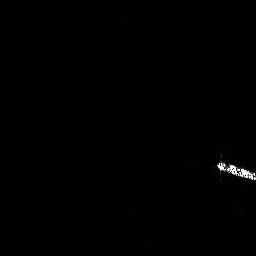ship: (214, 155, 256, 183)
